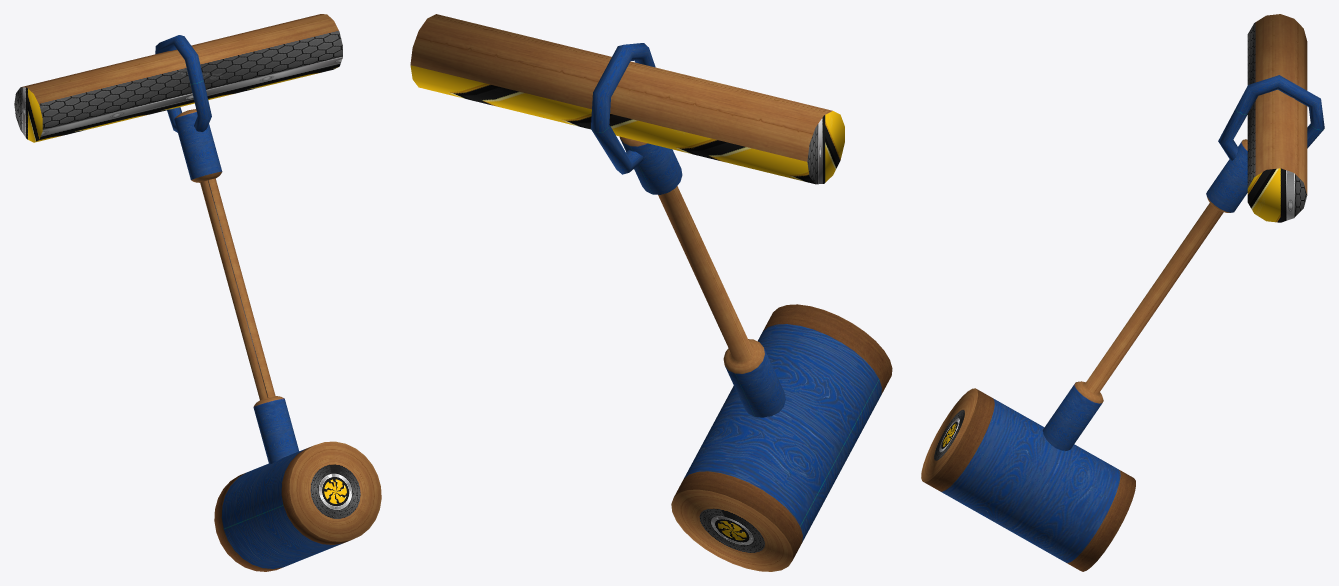
File: Hammer hurdle.fbx
3 views of the same model, side by side, from view 1: azimuth 30°, elevation 25°; view 2: azimuth 150°, elevation 25°; view 3: azimuth 270°, elevation 25° (orthographic). The views are drawn at different scales.
Visible parts, largest first — view 1: Torus, Hammer_003; view 2: Torus, Hammer_003; view 3: Torus, Hammer_003.
Boxes of the visible parts, x1,y1,x2,y2 form: Torus: (155,35,381,571); Hammer_003: (14,14,342,142); Torus: (590,43,892,571); Hammer_003: (410,14,844,184); Torus: (921,75,1324,571); Hammer_003: (1247,14,1307,222).
Size of the model in its own units: 60.82 by 90.29 by 67.25.
Materials: 1 (1 with a texture image).
